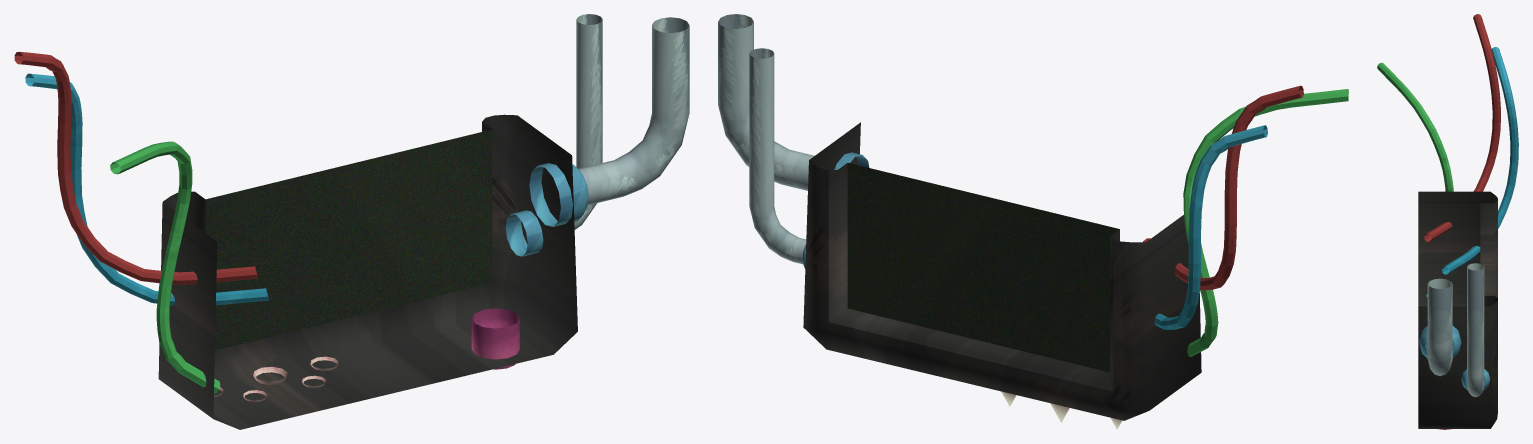
File: OrdersUI_Dashboard.fbx
3 views of the same model, side by side, from view 1: azimuth 30°, elevation 25°; view 2: azimuth 150°, elevation 25°; view 3: azimuth 270°, elevation 25° (orthographic). The views are drawn at different scales.
Visible parts, largest first — view 1: Orders UI; view 2: Orders UI; view 3: Orders UI.
Boxes of the visible parts, left/top/right/bottom form: Orders UI: left=14, top=14, right=689, bottom=429; Orders UI: left=718, top=14, right=1348, bottom=429; Orders UI: left=1377, top=14, right=1518, bottom=429.
Size of the model in its own units: 1187 by 735 by 344.
